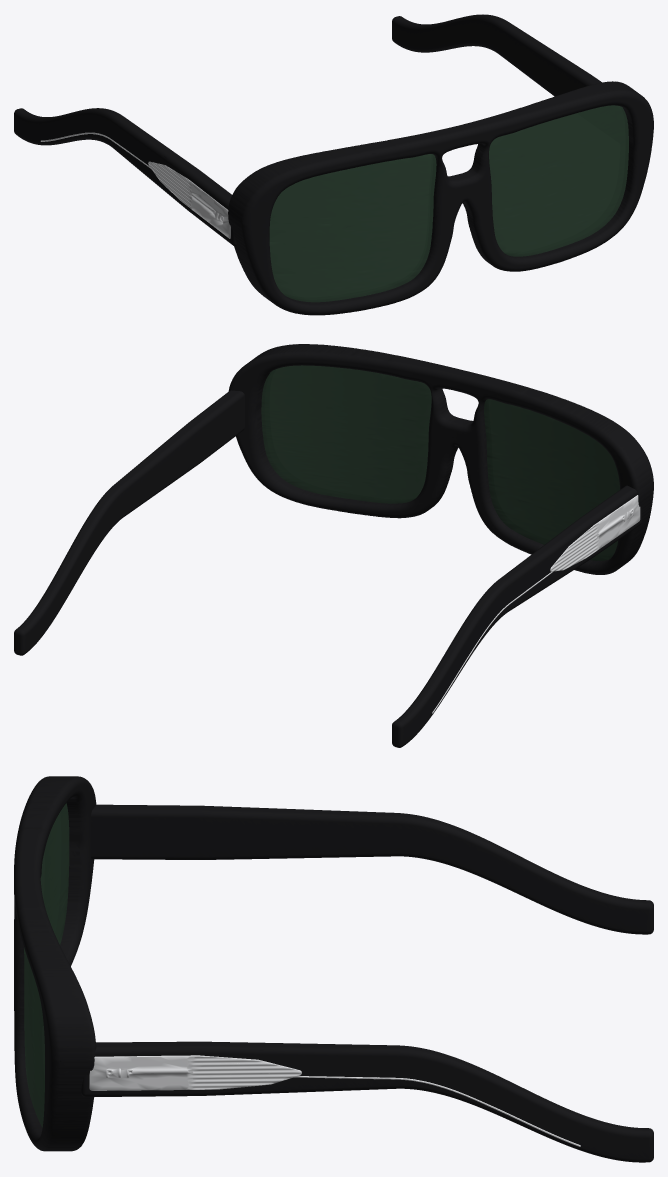
File: aviator.glb
3 renders of one model, top to bottom at view 1: azimuth 30°, elevation 25°; view 2: azimuth 150°, elevation 25°; view 3: azimuth 270°, elevation 25°, orthographic. The views are drawn at different scales.
Visible parts, largest first — view 1: Frame, Lenses, Metal; view 2: Frame, Lenses, Metal; view 3: Frame, Metal, Lenses.
Boxes of the visible parts, bbox=[...] form: Frame: bbox=[14, 14, 653, 315]; Lenses: bbox=[269, 105, 628, 302]; Metal: bbox=[40, 132, 230, 238]; Frame: bbox=[14, 344, 653, 747]; Lenses: bbox=[261, 365, 619, 560]; Metal: bbox=[432, 495, 640, 713]; Frame: bbox=[14, 776, 653, 1162]; Metal: bbox=[89, 1055, 580, 1146]; Lenses: bbox=[24, 803, 69, 1127].
Bounding box in the file's own units: 0.1455 × 0.0536 × 0.1586.
